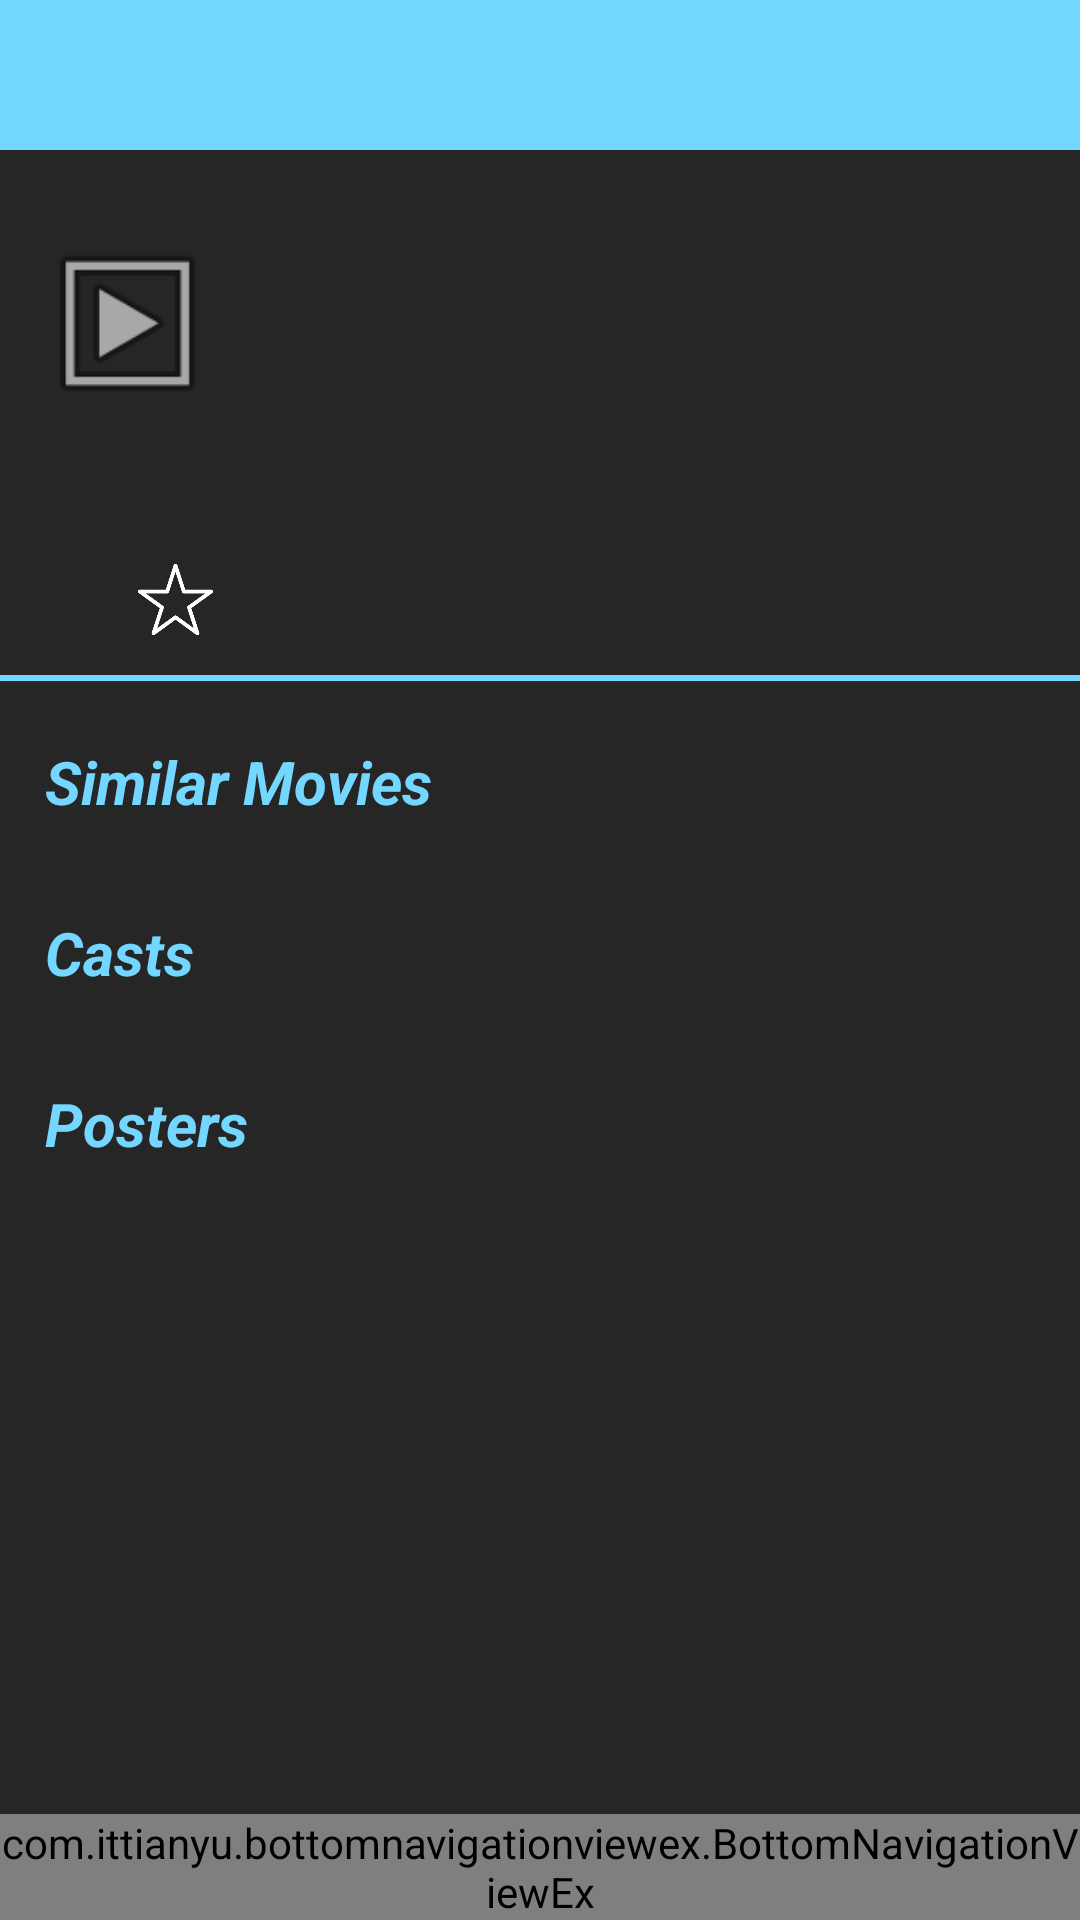

Icon click points for this 1080px x 1920px phone screenshot, format (x=x, y=y):
star: (x=175, y=599)
